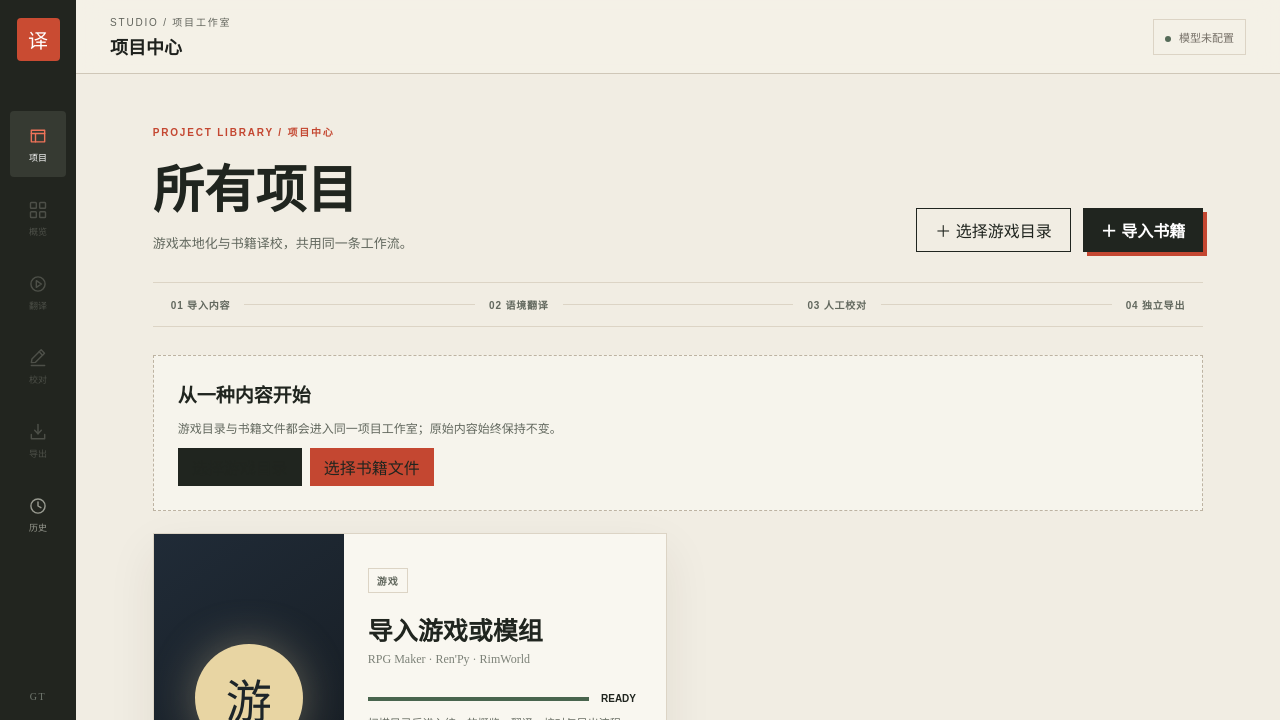
it: project flow › configures the model from the startup screen
The image size is (1280, 720).
Click the button with aria-label "配置模型" at (1200, 36), box [1153,18,1246,54]
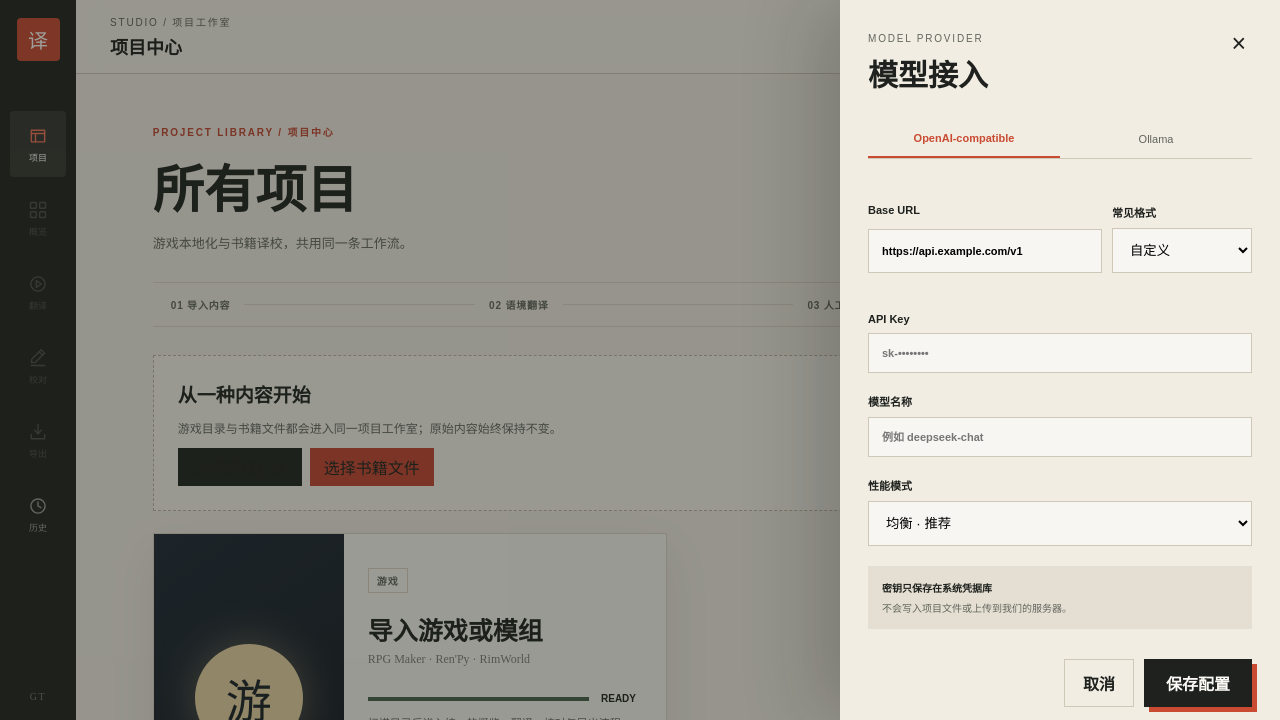
Expected: the dialog "模型接入" is shown, [840,0,1279,719]
